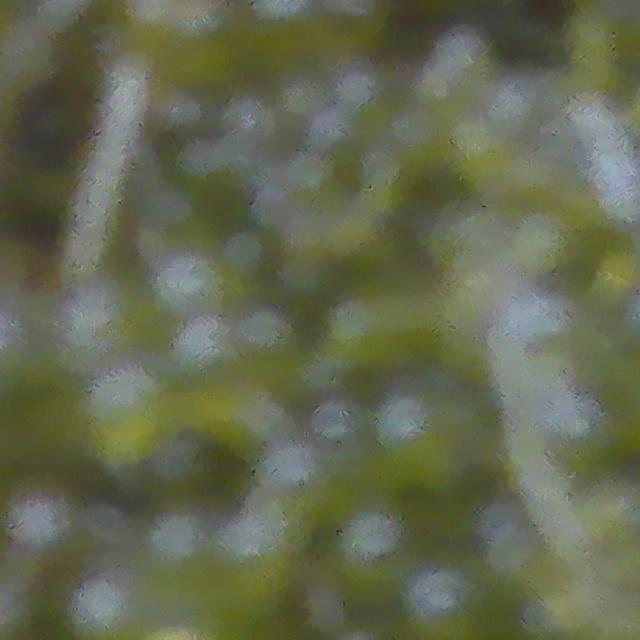SeaGrape: (398, 559, 495, 640), (334, 500, 411, 578), (61, 575, 146, 640)
